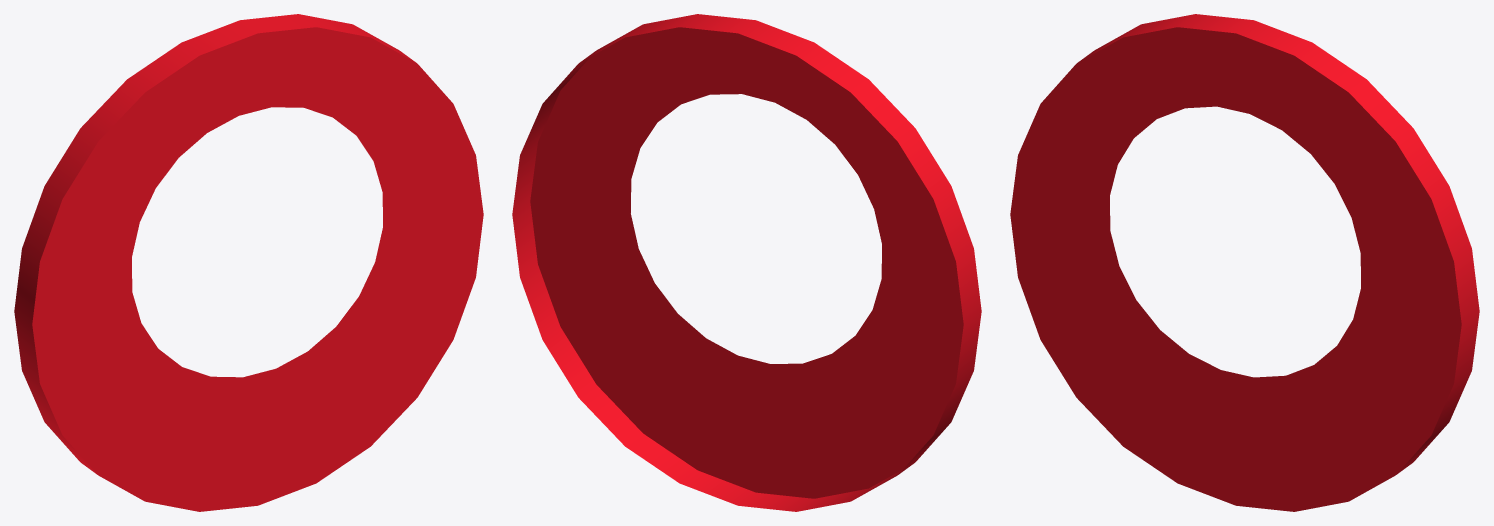
File: original-2.obj
3 views of the same model, side by side, from view 1: azimuth 30°, elevation 25°; view 2: azimuth 150°, elevation 25°; view 3: azimuth 330°, elevation 25° (orthographic).
Parts seen in each view (by area): view 1: #ID10; view 2: #ID10; view 3: #ID10.
Boxes of the visible parts, left/top/right/bottom form: #ID10: left=14, top=14, right=483, bottom=511; #ID10: left=512, top=14, right=981, bottom=511; #ID10: left=1010, top=14, right=1479, bottom=511.
Size of the model in its own units: 0.1844 by 0.1844 by 0.0127.
